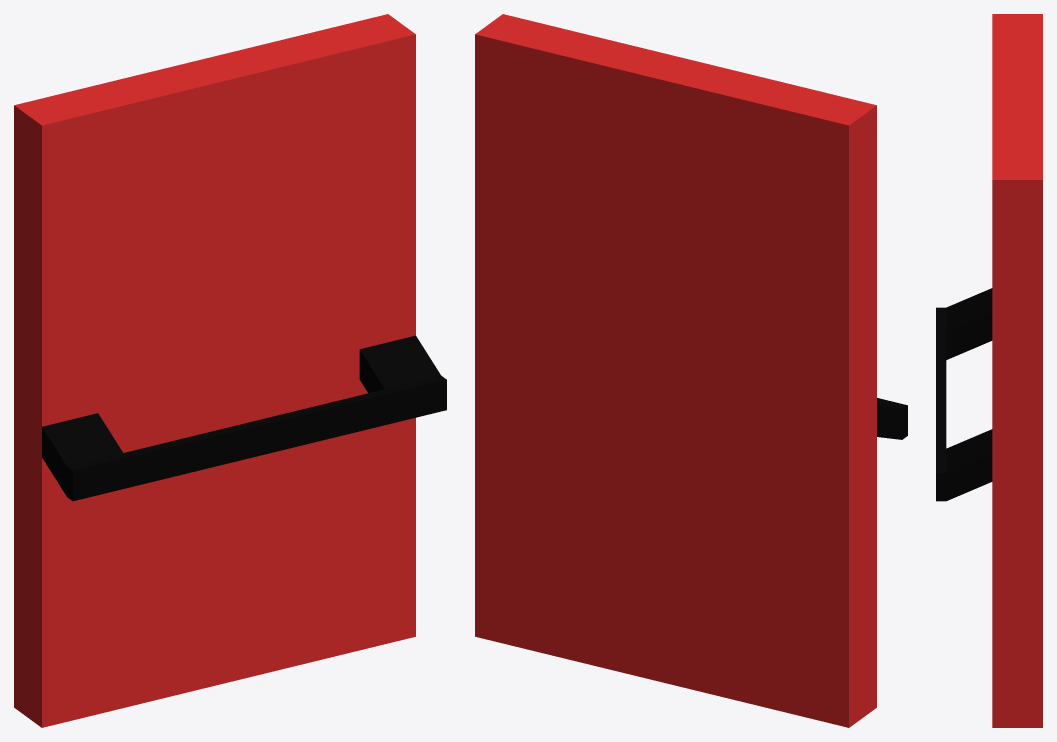
Rendered from emerencydoor.fbx.
3 renders of one model, left to right at view 1: azimuth 30°, elevation 25°; view 2: azimuth 150°, elevation 25°; view 3: azimuth 270°, elevation 25°, orthographic. The views are drawn at different scales.
Parts seen in each view (by area): view 1: Cube; view 2: Cube; view 3: Cube.
Boxes of the visible parts, x1,y1,x2,y2 form: Cube: (14,14,446,727); Cube: (475,14,907,727); Cube: (936,14,1042,727).
Bounding box in the file's own units: 138 × 213 × 37.61.
